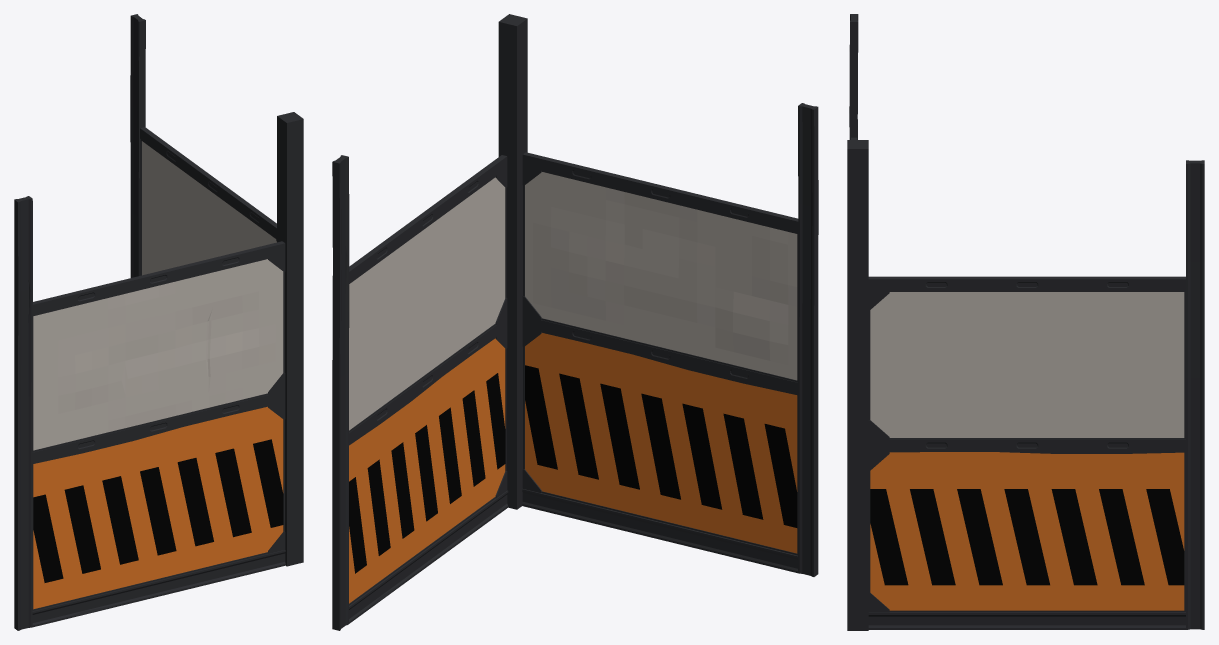
File: SM_Wall_Angle_05.gltf
3 views of the same model, side by side, from view 1: azimuth 30°, elevation 25°; view 2: azimuth 150°, elevation 25°; view 3: azimuth 270°, elevation 25° (orthographic). The views are drawn at different scales.
Parts seen in each view (by area): view 1: SM_Wall_Angle_05; view 2: SM_Wall_Angle_05; view 3: SM_Wall_Angle_05.
Boxes of the visible parts, <box> form: SM_Wall_Angle_05: <box>14,14,303,630</box>; SM_Wall_Angle_05: <box>332,14,818,630</box>; SM_Wall_Angle_05: <box>847,14,1204,630</box>.
Size of the model in its own units: 2.01 by 3 by 2.01.
